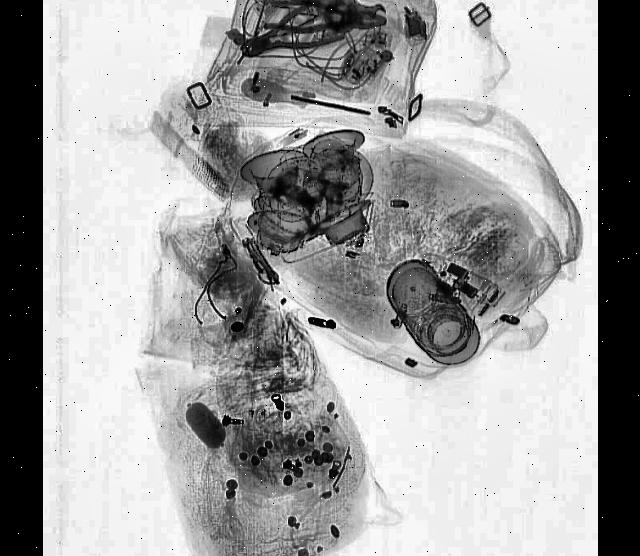Pliers: (236, 0, 345, 74), (262, 0, 383, 40)
Wrench: (328, 0, 384, 24)
